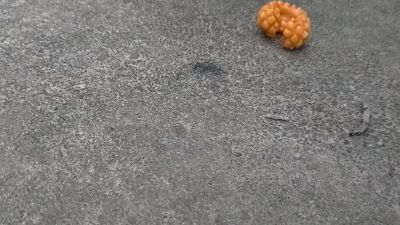eggs: (255, 1, 312, 51)
